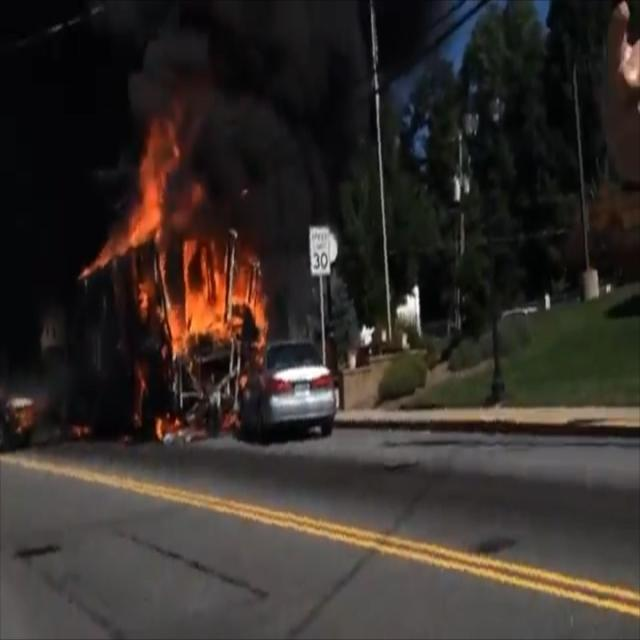fire: (82, 96, 259, 437)
